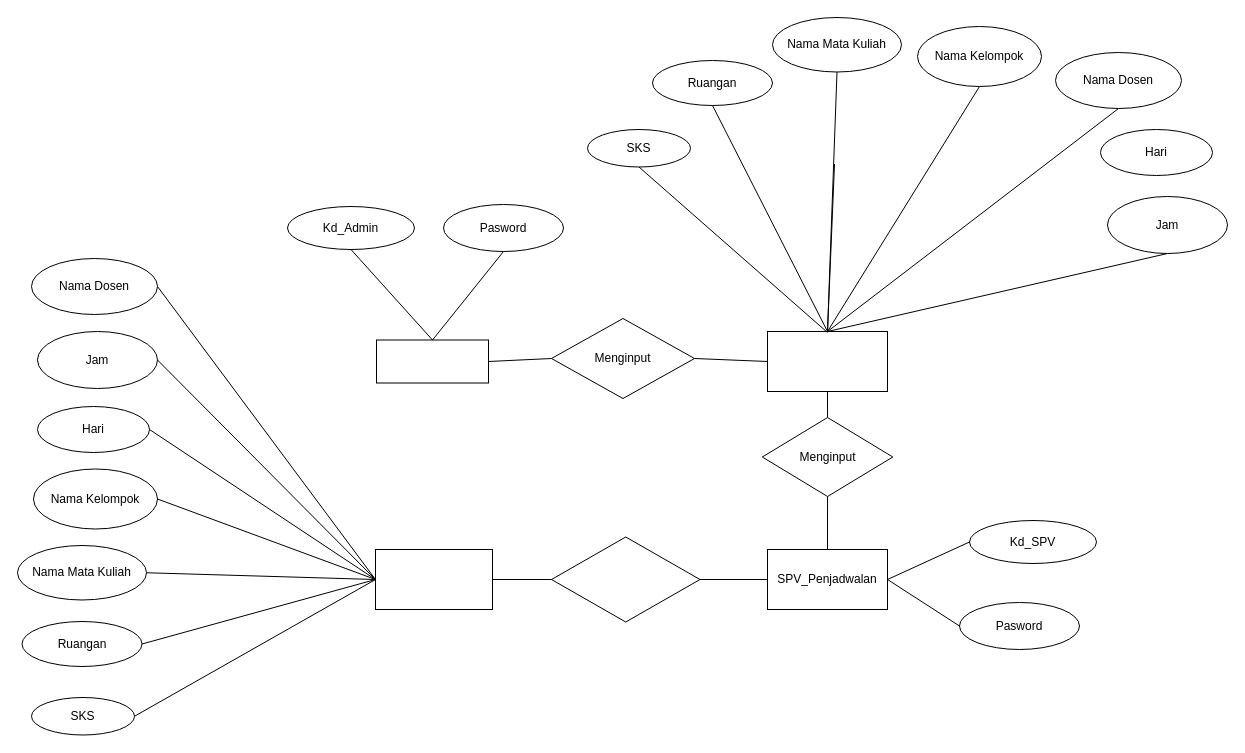
Some shapes in this 1245 by 753 pixel diagram are drawn without their labels. Here are the shapes that lost their labels. From the top down, the centre of each, then its label:
(x=432, y=361): Admin
(x=827, y=361): Jadwal
(x=433, y=579): Ubah_Jadwal
(x=625, y=579): Mengakses
